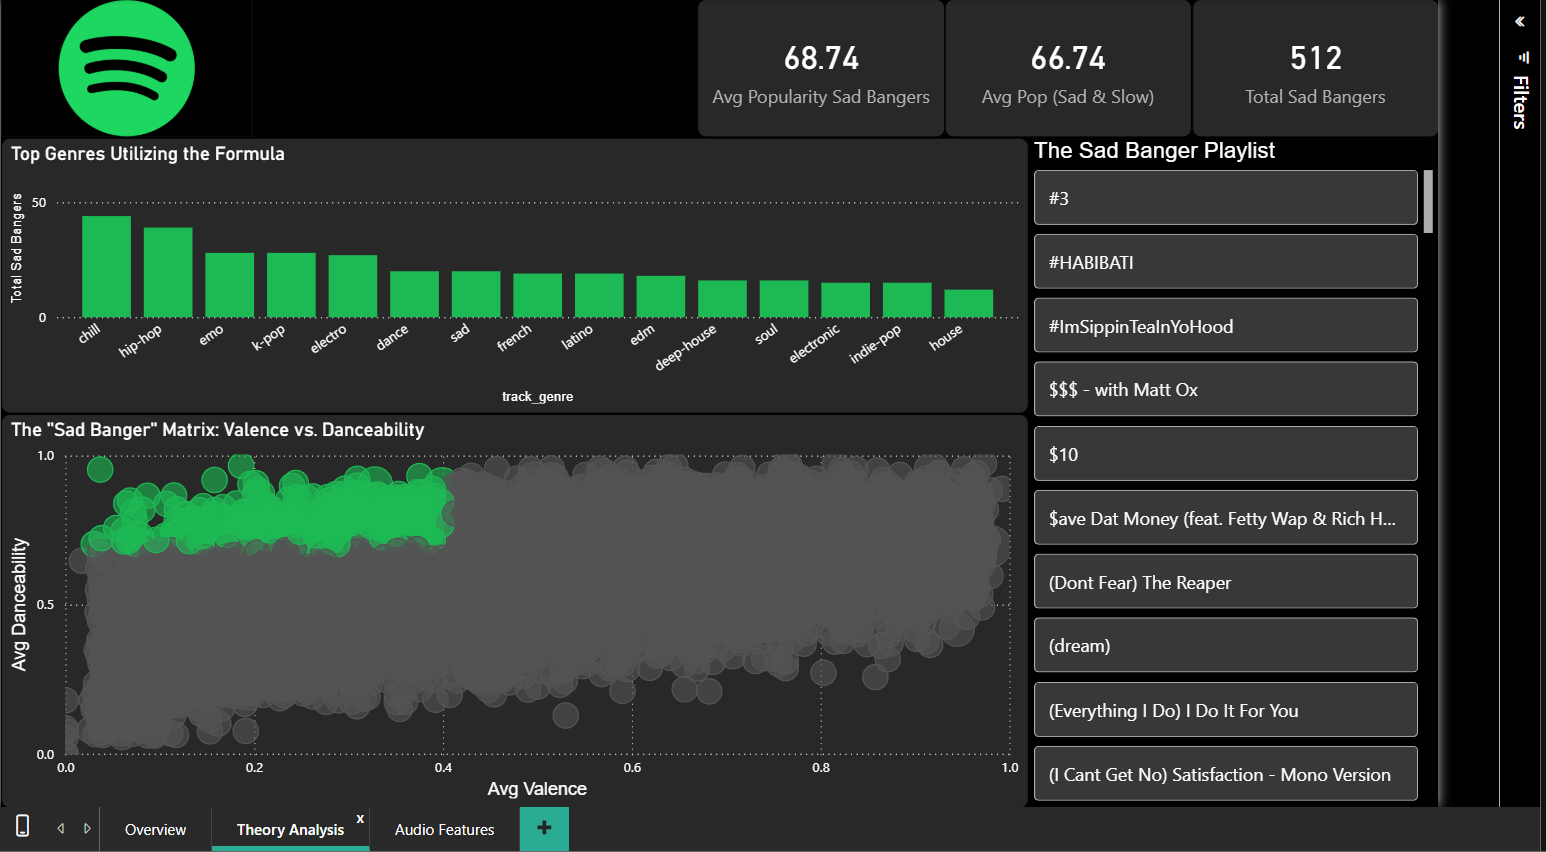

The dashboard page shown, as its layout file describes it:
{"tool":"powerbi","page":{"name":"Theory Analysis","canvas":[1280,720],"ordinal":1},"visuals":[{"type":"scatterChart","title":"The \"Sad Banger\" Matrix: Valence vs. Danceability","fields":{"Size":["_Measures.Total Songs"],"X":["_Measures.Avg Valence"],"Y":["_Measures.Avg Danceability"],"Category":["fact_songs.Track and Artist"]},"box":[0,369.1,915.3,351.3],"z":0},{"type":"image","box":[0,0,223.7,123.5],"z":1000},{"type":"card","fields":{"Values":["_Measures.Total Sad Bangers"]},"box":[1060.5,0,219.8,123.3],"z":2000},{"type":"card","fields":{"Values":["_Measures.Avg Pop (Sad & Slow)"]},"box":[840.7,0,219.8,123.3],"z":3000},{"type":"card","fields":{"Values":["_Measures.Avg Popularity Sad Bangers"]},"box":[619.8,0,220.9,123.3],"z":4000},{"type":"clusteredColumnChart","title":"Top Genres Utilizing the Formula","fields":{"Category":["dim_genre.track_genre"],"Y":["_Measures.Total Sad Bangers"]},"box":[0,123.5,915.3,245.6],"z":5000},{"type":"advancedSlicerVisual","title":"The Sad Banger Playlist","fields":{"Values":["fact_songs.track_name"]},"box":[915,123.6,365.1,596.7],"z":6000}]}

Visuals, with their boxes on the page's 1280x720 design canvas (x1, y1, x2, y2). These are canvas units, not pixel positions in the 1546x852 screenshot, which may show the page scaled, cropped or inside an application window:
"The "Sad Banger" Matrix: Valence vs. Danceability" scatterChart: 0/369/915/720
image: 0/0/224/124
card - _Measures.Total Sad Bangers: 1060/0/1280/123
card - _Measures.Avg Pop (Sad & Slow): 841/0/1060/123
card - _Measures.Avg Popularity Sad Bangers: 620/0/841/123
"Top Genres Utilizing the Formula" clusteredColumnChart: 0/124/915/369
"The Sad Banger Playlist" advancedSlicerVisual: 915/124/1280/720
